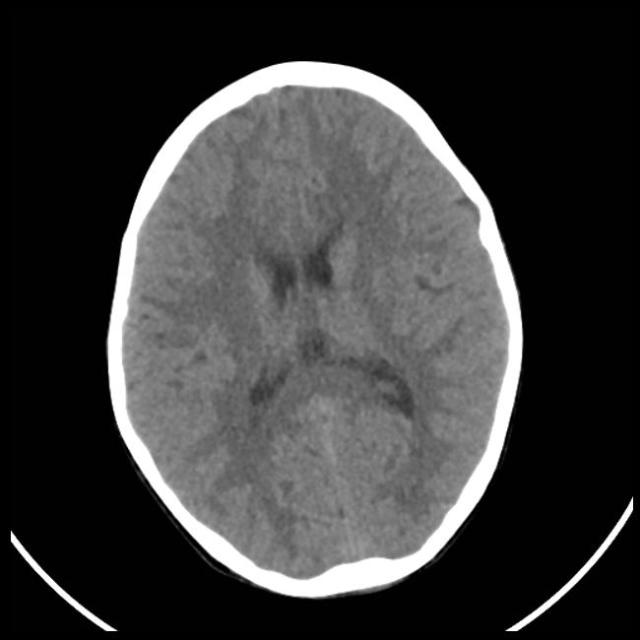lesion: (106, 65, 525, 591)
